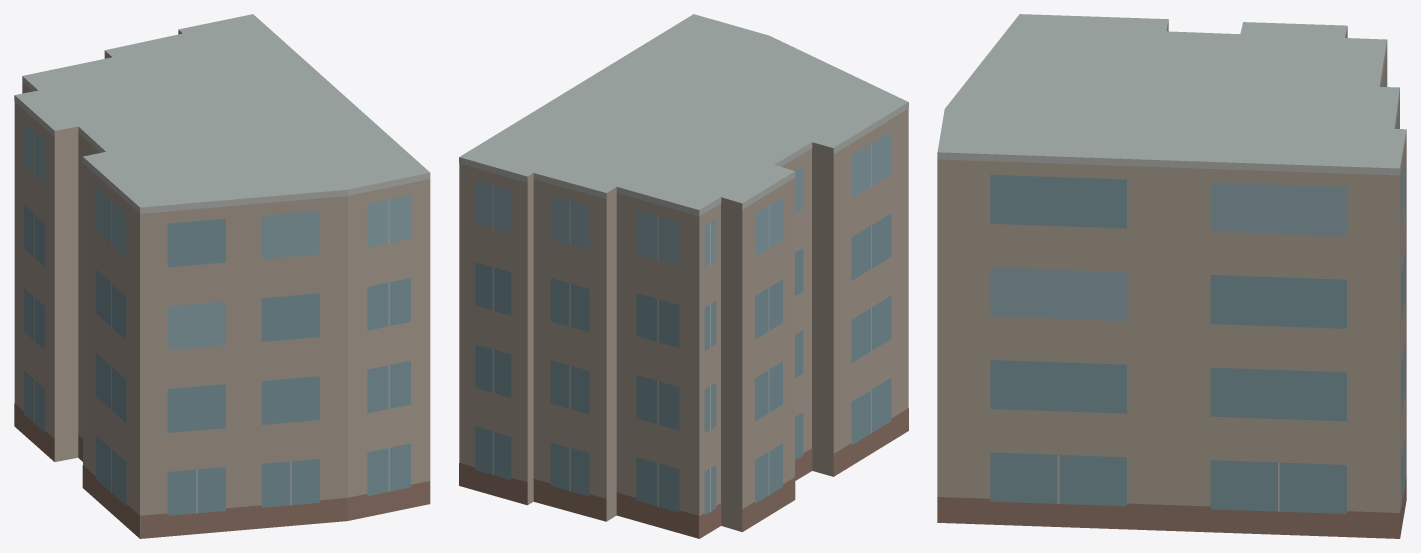
The model's file is survey-upis-32982148.glb.
The picture shows the model from 3 angles, left to right: view 1: azimuth 30°, elevation 25°; view 2: azimuth 150°, elevation 25°; view 3: azimuth 270°, elevation 25°; orthographic projection. The views are drawn at different scales.
Parts seen in each view (by area): view 1: survey-upis-32982148.tmp; view 2: survey-upis-32982148.tmp; view 3: survey-upis-32982148.tmp.
Boxes of the visible parts, x1,y1,x2,y2 form: survey-upis-32982148.tmp: [14, 14, 430, 538]; survey-upis-32982148.tmp: [459, 14, 908, 538]; survey-upis-32982148.tmp: [937, 14, 1406, 538].
Bounding box in the file's own units: 11.5 × 12.85 × 14.76.
